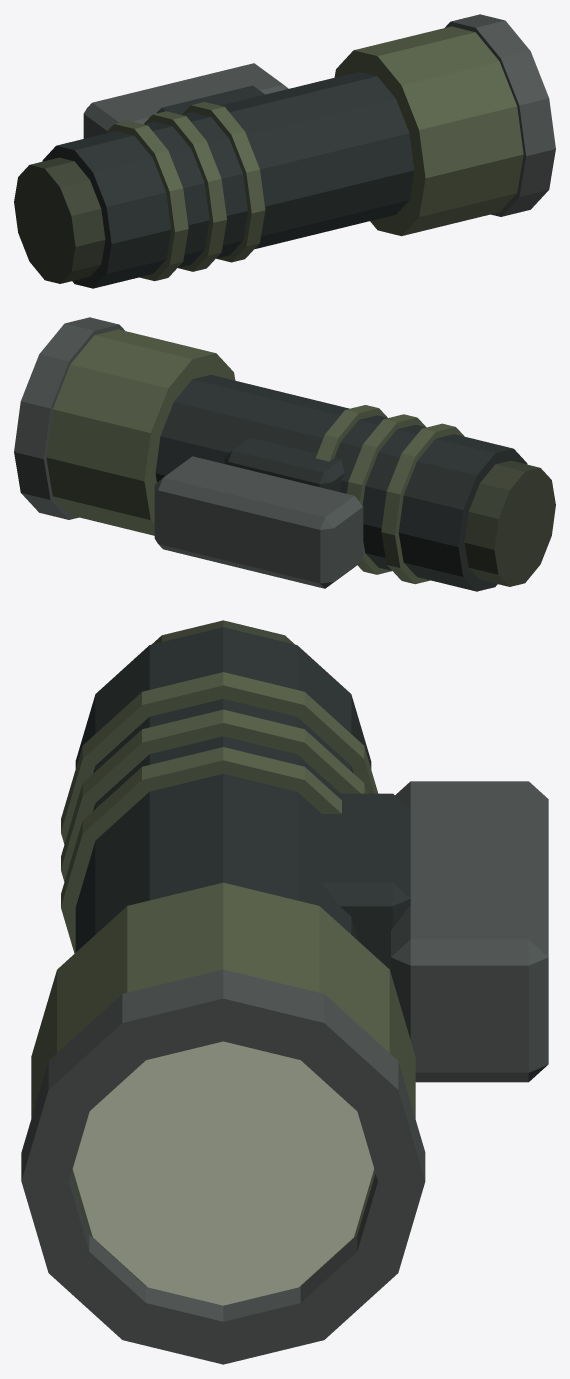
Rendered from SM_HelmetLamp.fbx.
3 renders of one model, top to bottom at view 1: azimuth 30°, elevation 25°; view 2: azimuth 150°, elevation 25°; view 3: azimuth 270°, elevation 25°, orthographic. The views are drawn at different scales.
Visible parts, largest first — view 1: SM_HelmetLamp.001; view 2: SM_HelmetLamp.001; view 3: SM_HelmetLamp.001.
Boxes of the visible parts, x1,y1,x2,y2 form: SM_HelmetLamp.001: [14, 14, 555, 288]; SM_HelmetLamp.001: [14, 317, 555, 591]; SM_HelmetLamp.001: [21, 620, 548, 1364].
Size of the model in its own units: 10.8 by 5.35 by 4.1.
